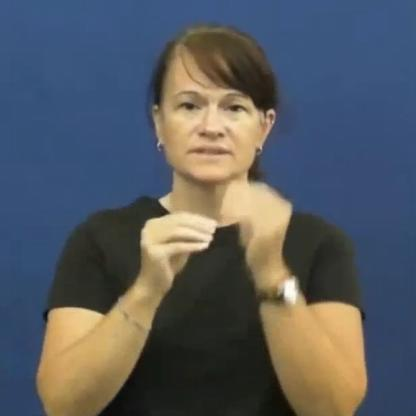Fix: (133, 176, 291, 321)
